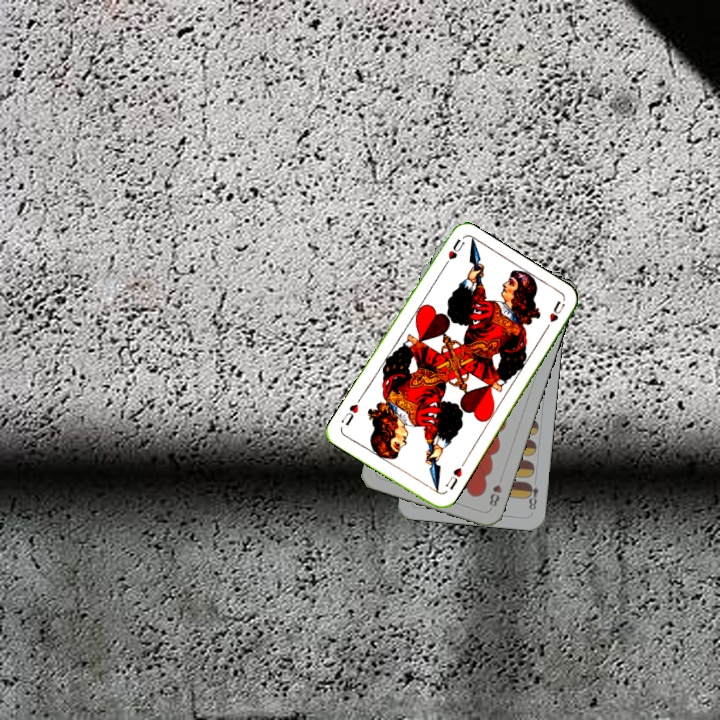E8: (523, 479, 541, 513)
H8: (485, 472, 505, 509)
HU: (438, 235, 467, 272), (441, 463, 465, 492)
